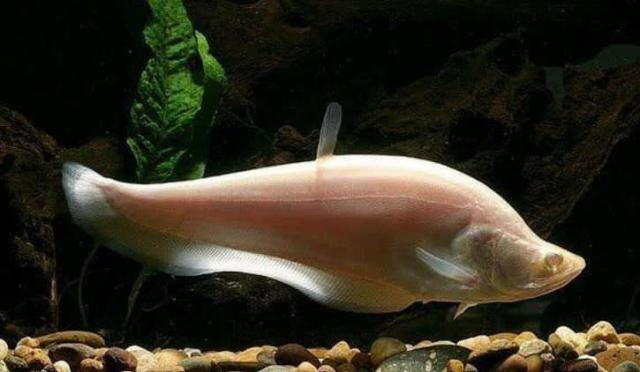Mulut: (525, 250, 593, 294)
Sirip Dada: (402, 243, 482, 301)
Sirip Perut: (448, 294, 484, 324)
Sirip Punggung: (306, 90, 350, 176)
